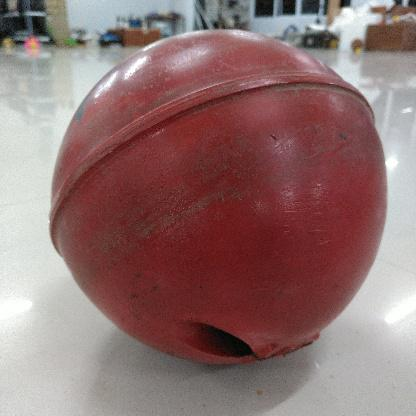red_buoy: (47, 25, 388, 368)
